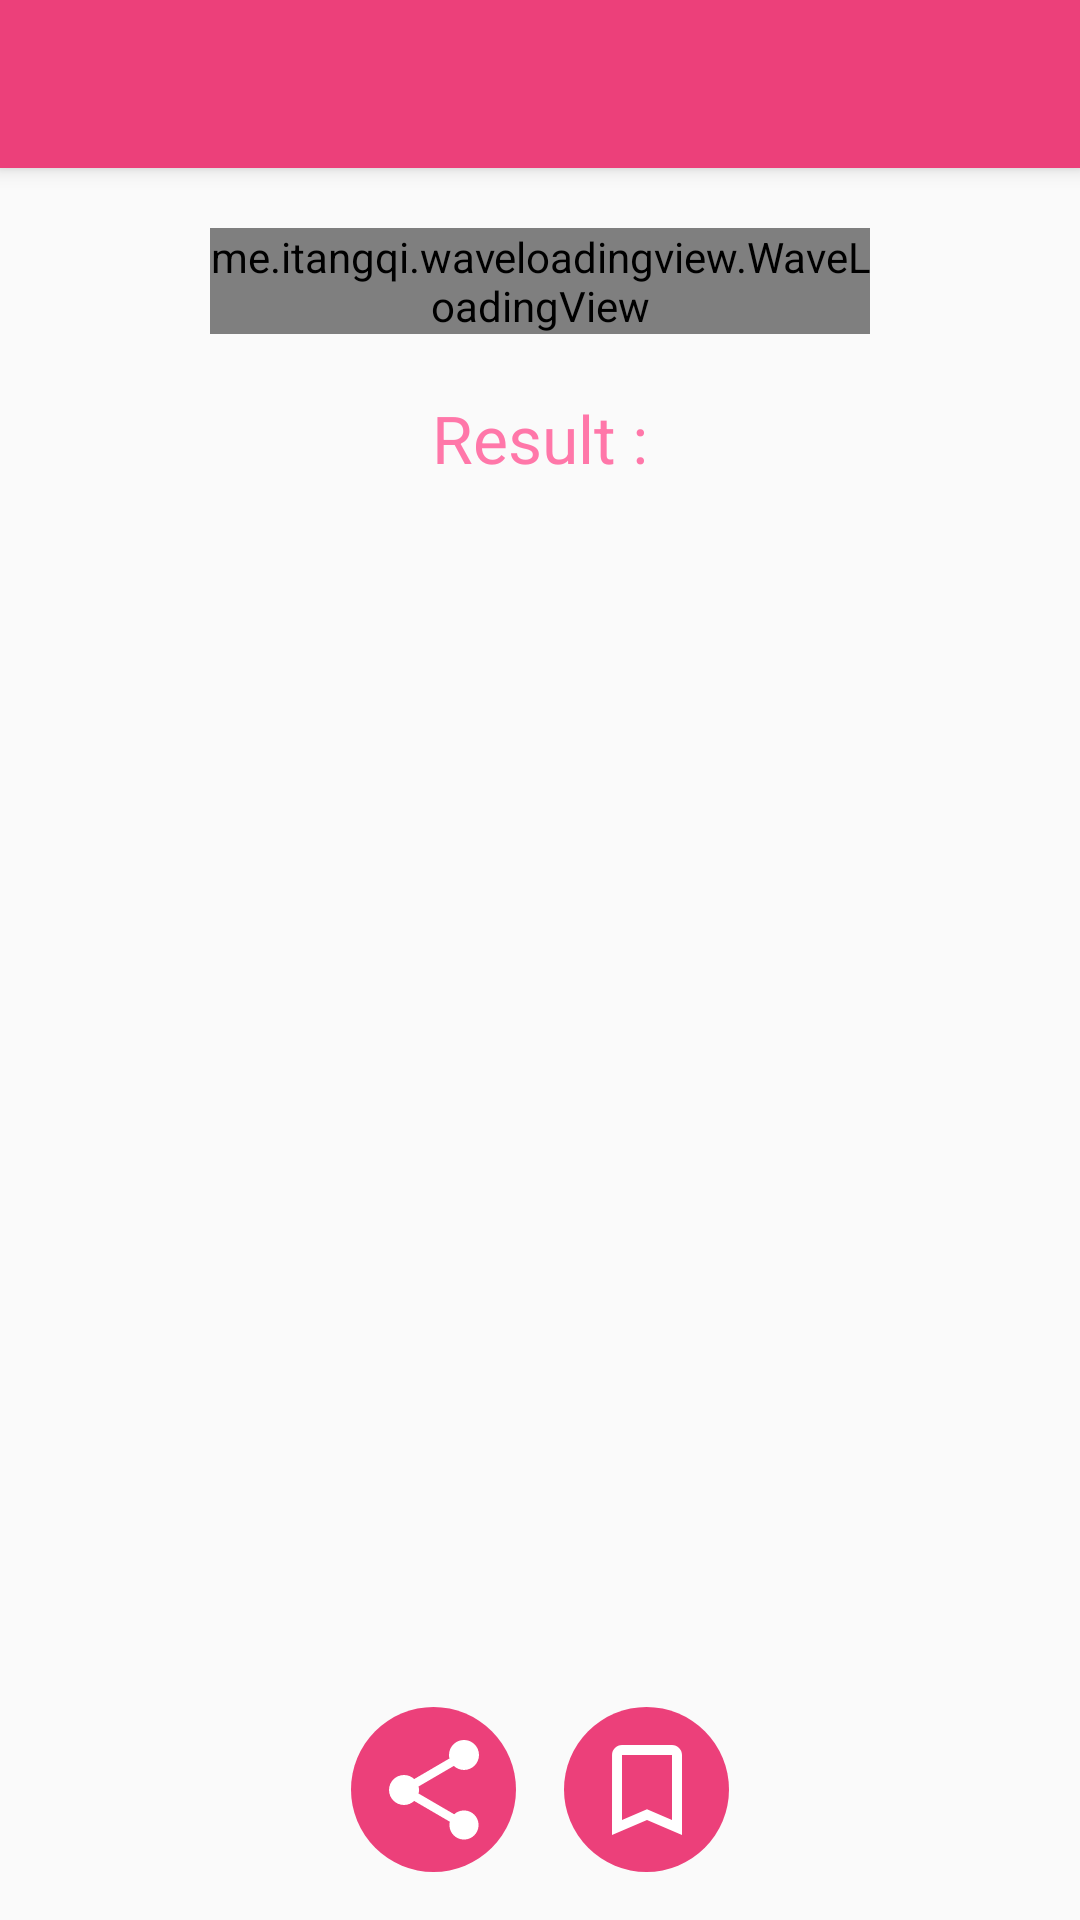

Screen size 1080×1920. Icon name, then its center in pixels as [x,y]:
share: [433,1789]
turned in not: [646,1789]
